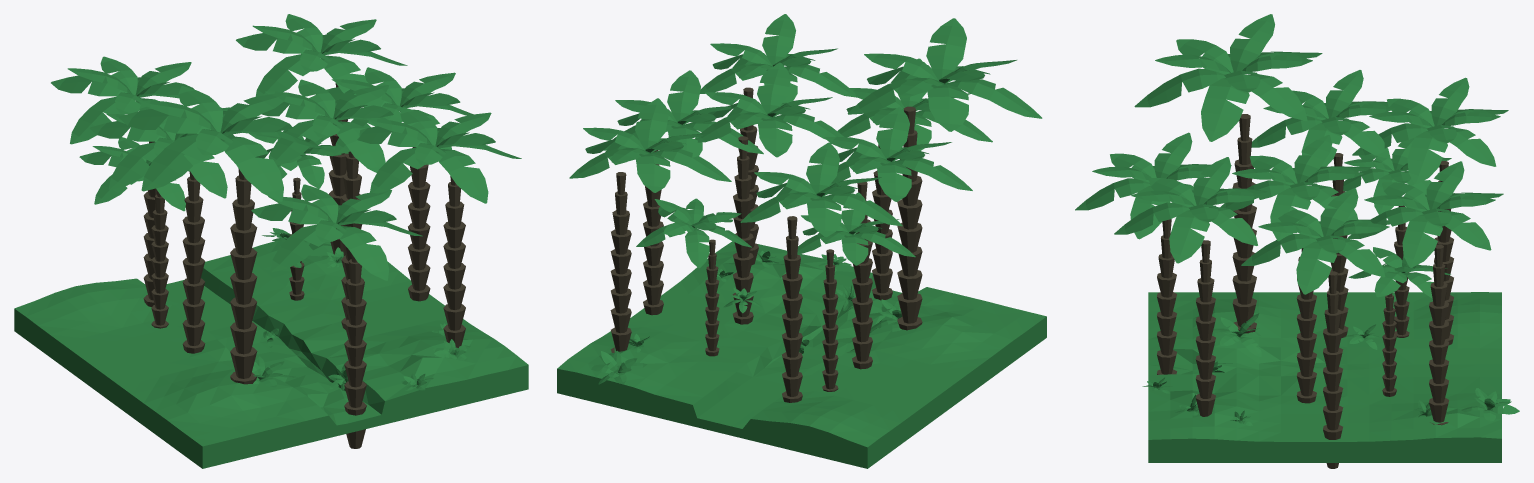
The model's file is treesFinals.glb.
The picture shows the model from 3 angles, left to right: view 1: azimuth 30°, elevation 25°; view 2: azimuth 150°, elevation 25°; view 3: azimuth 270°, elevation 25°; orthographic projection. The views are drawn at different scales.
Visible parts, largest first — view 1: Ground, Palm.001, Palm.009, Palm.007, Palm.003, Palm.008, Leaf.011, Palm.002, Leaf.010, Leaf.158, Leaf.118, Leaf.014 (+46 smaller); view 2: Ground, Palm.001, Palm.005, Palm.006, Palm.004, Palm.009, Palm.008, Palm.002, Leaf.017, Palm.007, Leaf.014, Leaf.010 (+36 smaller); view 3: Ground, Palm.001, Palm.006, Palm.003, Palm.008, Palm.007, Leaf.012, Palm.004, Leaf.015, Leaf.011, Leaf.117, Leaf.137 (+55 smaller).
Boxes of the visible parts, x1,y1,x2,y2 form: Ground: (14,239,528,468); Palm.001: (230,168,257,384); Palm.009: (182,171,205,353); Palm.007: (344,253,366,448); Palm.003: (443,176,465,347); Palm.008: (408,147,430,301); Leaf.011: (220,136,283,201); Palm.002: (151,190,168,328); Leaf.010: (141,134,220,191); Leaf.158: (336,226,389,280); Leaf.118: (435,149,488,203); Leaf.014: (118,109,209,133); Ground: (557,241,1046,468); Palm.001: (897,106,922,330); Palm.005: (782,216,802,402); Palm.006: (610,172,631,352); Palm.004: (732,136,753,324); Palm.009: (852,182,872,369); Palm.008: (643,150,663,315); Palm.002: (822,249,838,391); Leaf.017: (926,18,966,80); Palm.007: (872,144,892,300); Leaf.014: (927,84,968,131); Leaf.010: (944,79,1042,118); Ground: (1148,292,1501,462); Palm.001: (1232,114,1256,333); Palm.006: (1429,244,1448,425); Palm.003: (1195,240,1215,416); Palm.008: (1323,271,1343,468); Palm.007: (1157,219,1176,374); Leaf.012: (1201,78,1249,141); Palm.004: (1296,248,1316,403); Leaf.015: (1230,14,1274,71); Leaf.011: (1134,68,1225,107); Leaf.117: (1169,210,1209,263); Leaf.137: (1407,131,1447,184).
Bounding box in the file's own units: 12.07 × 10.05 × 12.53.
